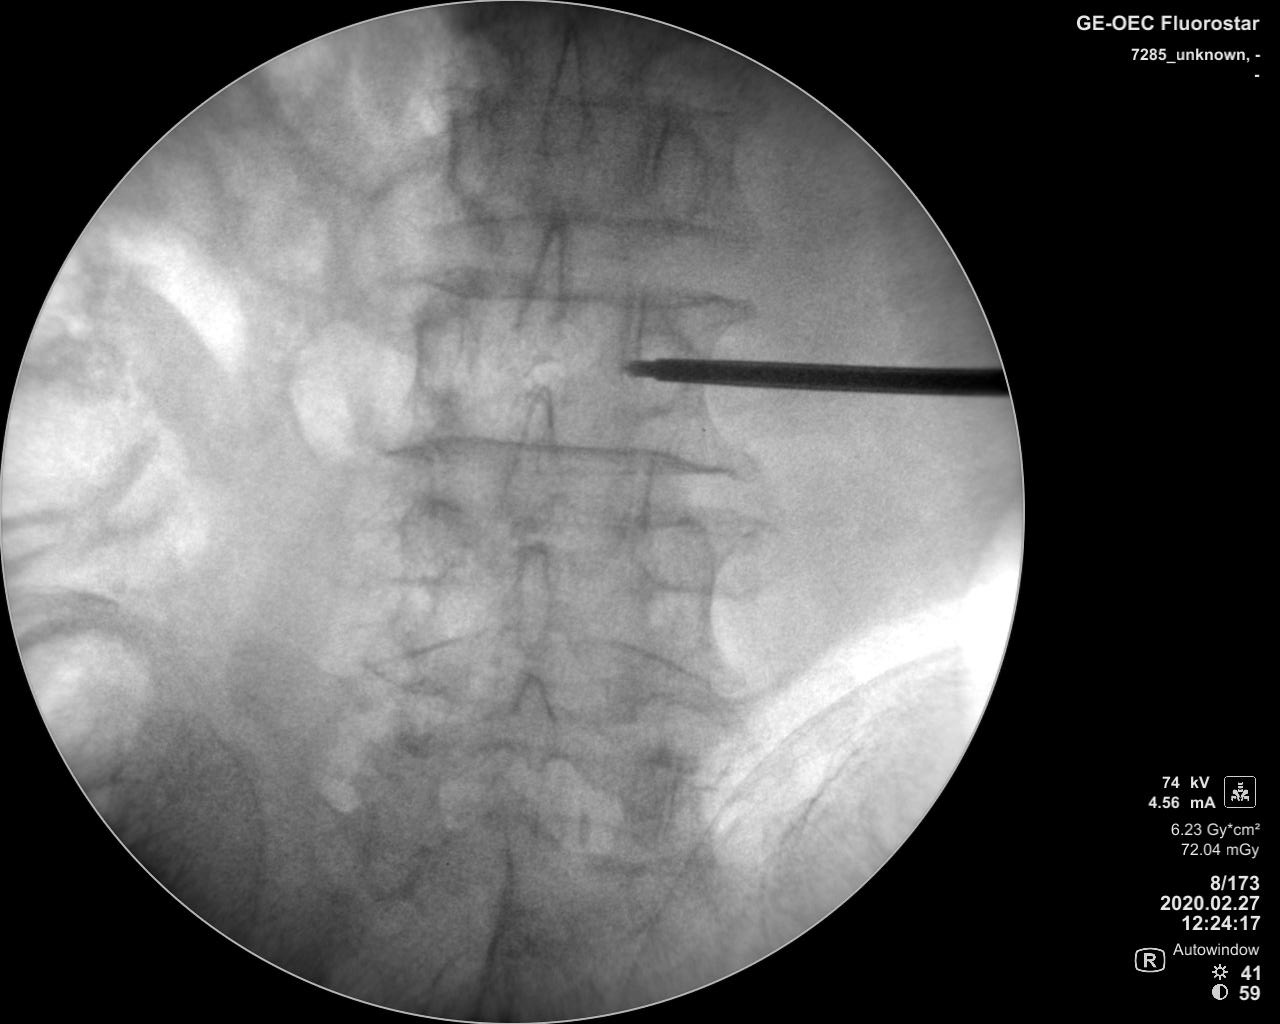eyes: (411, 303, 484, 403), (623, 309, 694, 411), (651, 122, 711, 239), (633, 513, 712, 596), (393, 490, 461, 585), (446, 111, 499, 204)
line: (378, 429, 731, 485), (420, 277, 738, 315), (450, 84, 720, 126), (426, 208, 725, 246)
nose: (501, 389, 563, 528), (539, 27, 594, 168), (511, 218, 568, 334), (507, 541, 555, 661), (512, 675, 559, 776)
